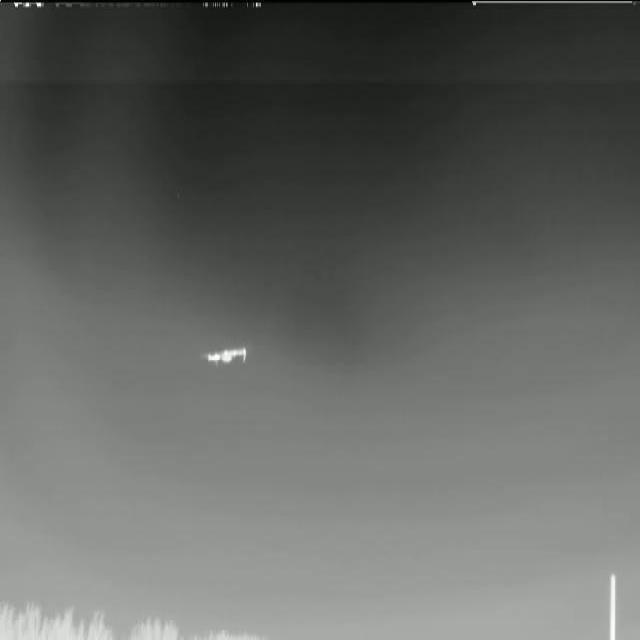DRONE: (190, 336, 254, 377)
